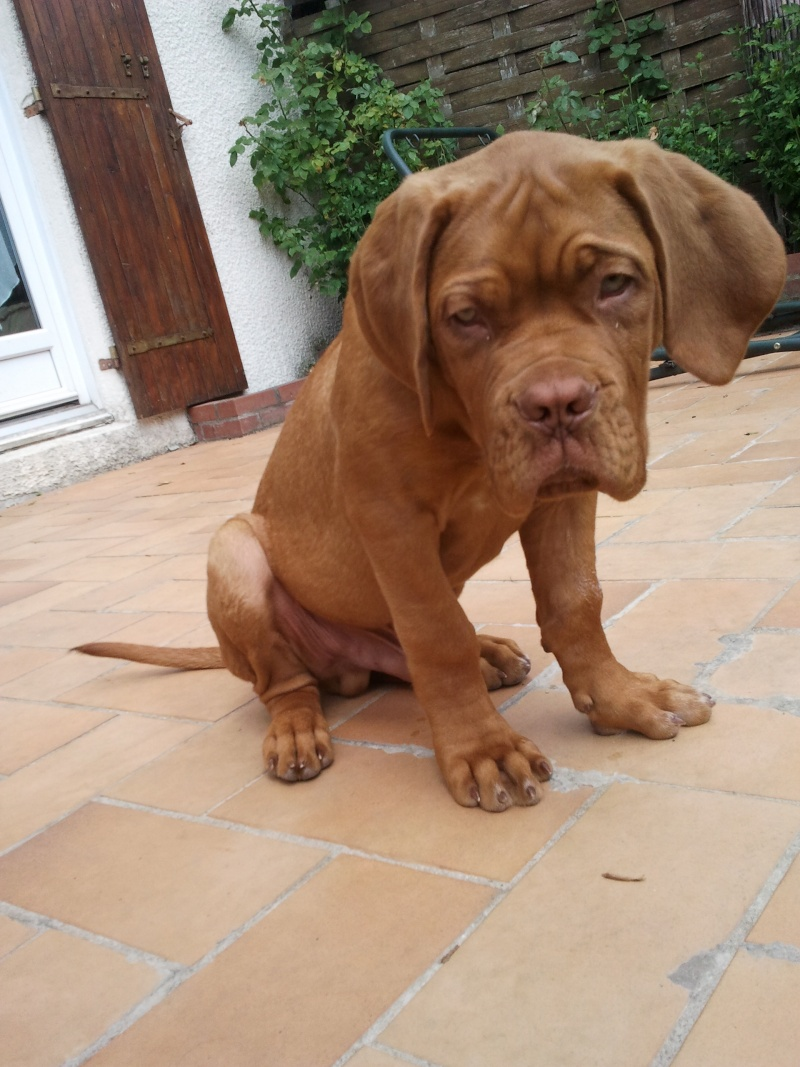dogue_de_bordeaux: (69, 127, 788, 814)
